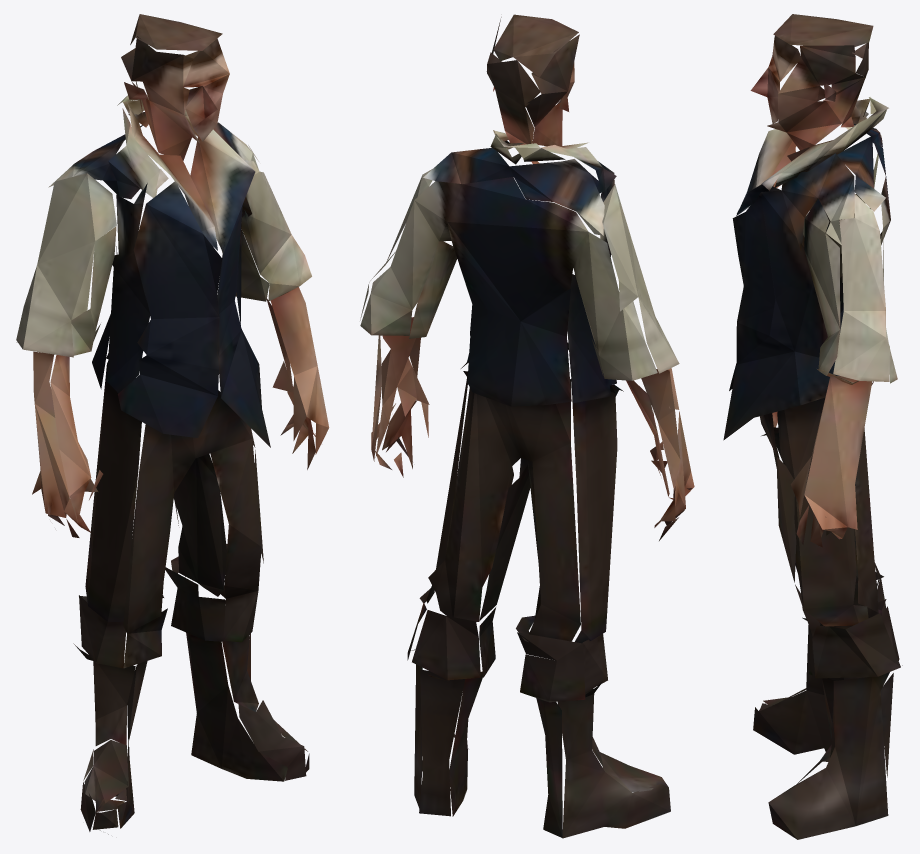
The model's file is kit_persona.glb.
3 renders of one model, left to right at view 1: azimuth 30°, elevation 25°; view 2: azimuth 150°, elevation 25°; view 3: azimuth 270°, elevation 25°, orthographic. The views are drawn at different scales.
Parts seen in each view (by area): view 1: _leggero; view 2: _leggero; view 3: _leggero.
Boxes of the visible parts, bbox=[...] form: _leggero: bbox=[16, 14, 329, 834]; _leggero: bbox=[360, 14, 694, 838]; _leggero: bbox=[723, 14, 902, 839].
Bounding box in the file's own units: 1.04 × 2.48 × 0.5411.
Materials: 1 (1 with a texture image).
